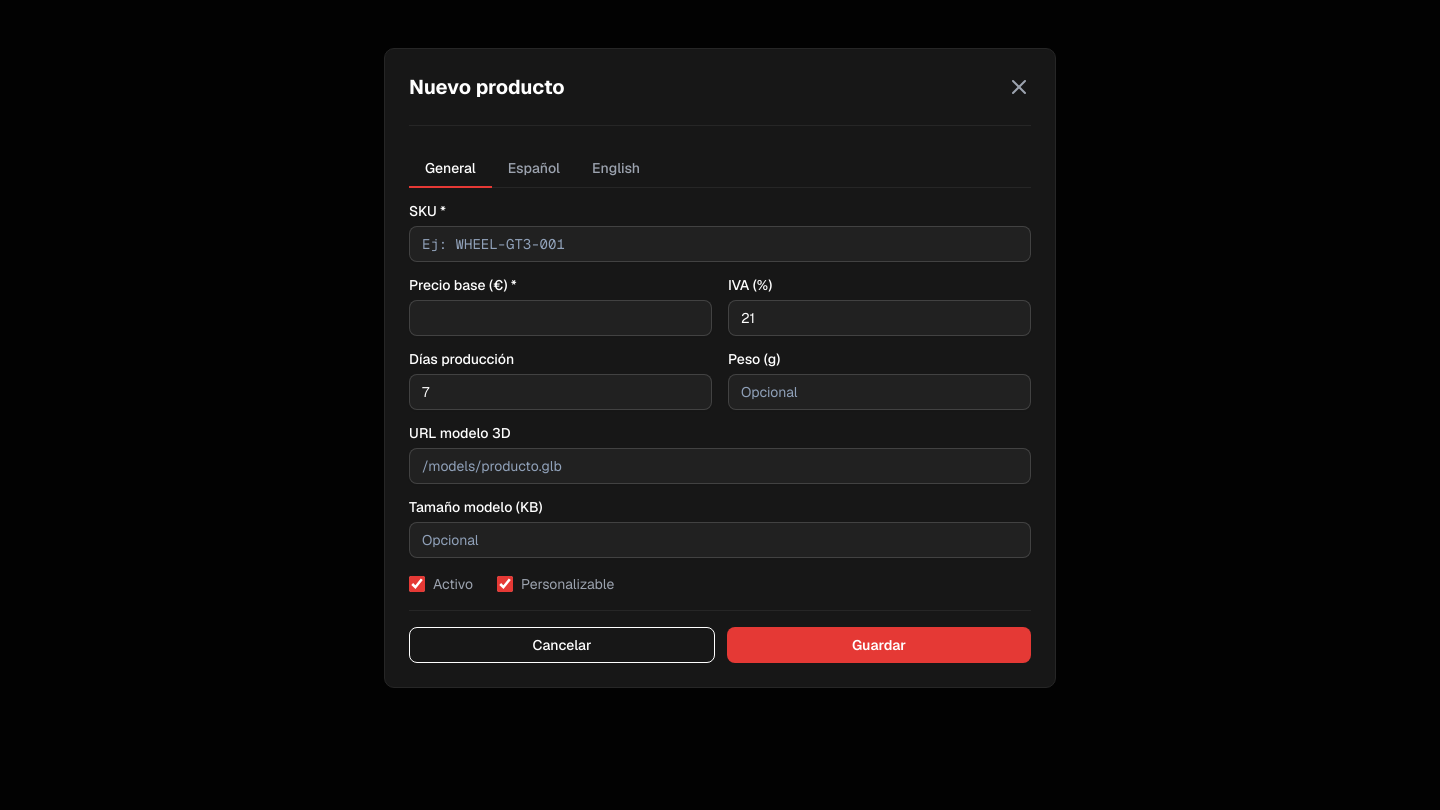
Test: ProductModal › creación › el slug se genera automáticamente al escribir el nombre en Español
Click the button "Español".
click(534, 169)  # box [492,150,576,188]
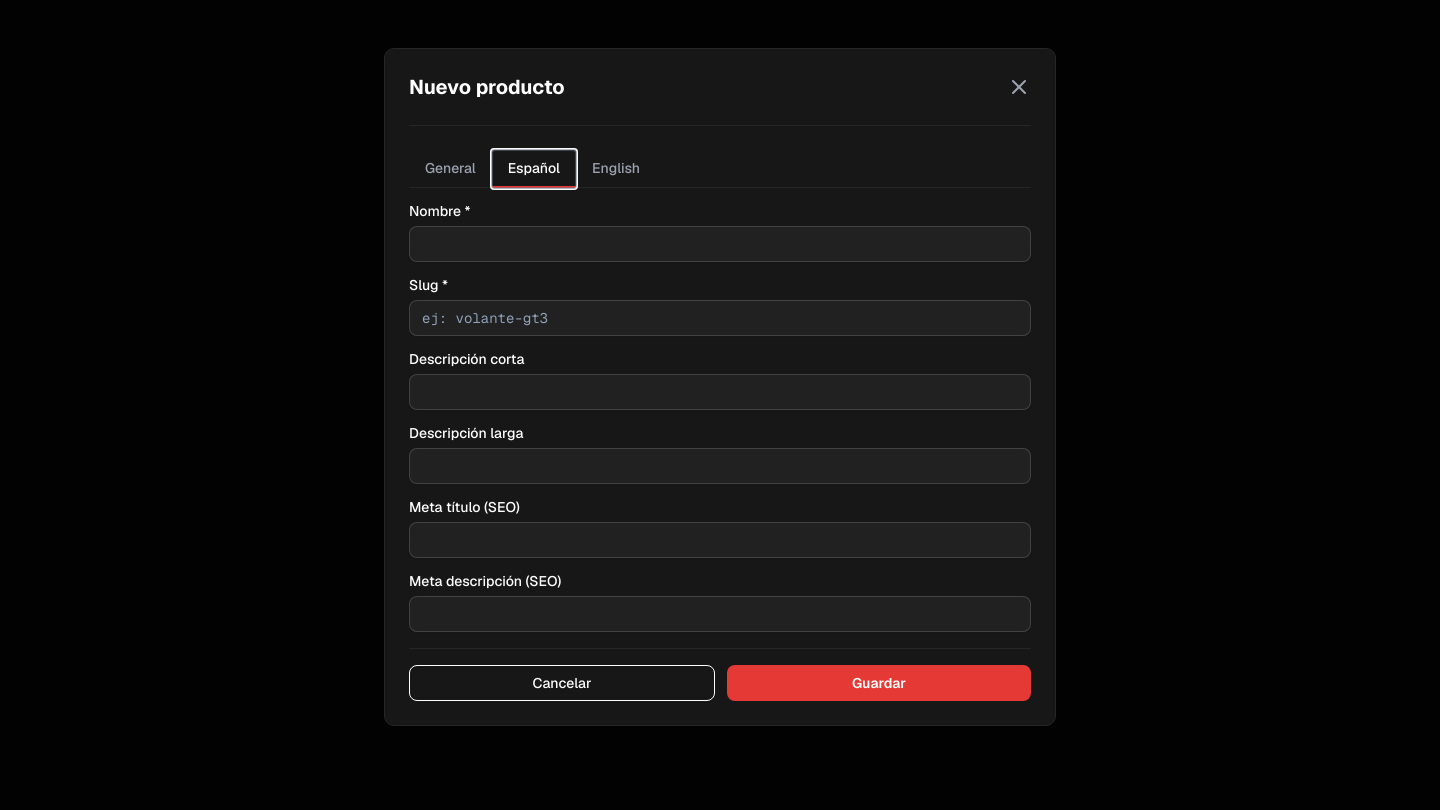
Type "Volante GT3" into the field labelled "Nombre *".
click(720, 244); type("Volante GT3")  # box [409,226,1031,262]
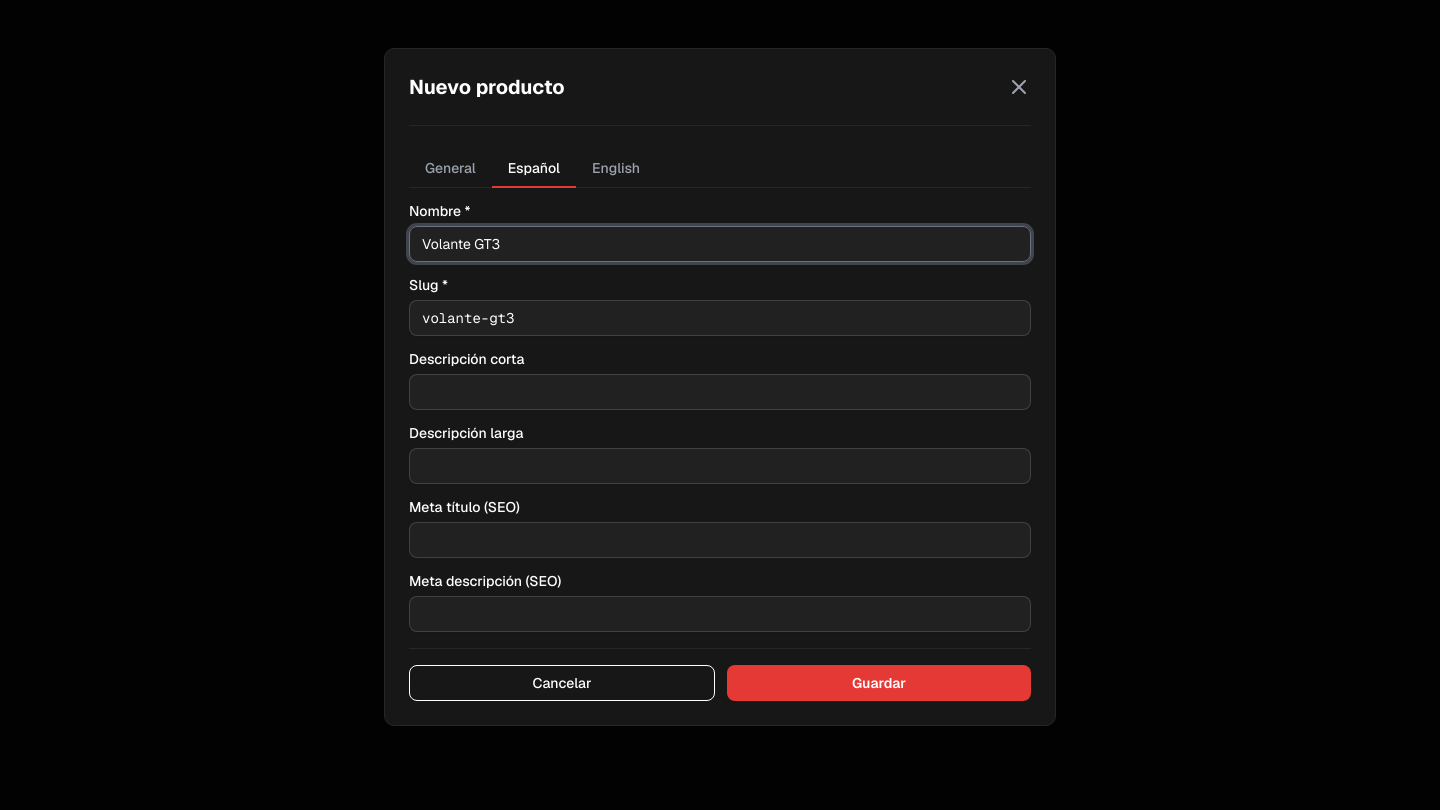
Result: the field labelled "Slug *" holds "volante-gt3" at [409,300,1031,336]
